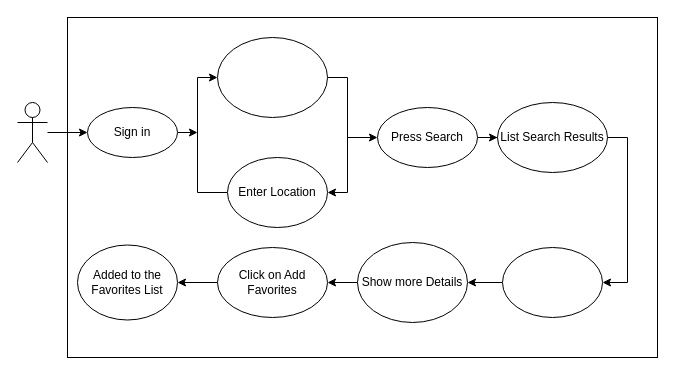
The diagram is 675 pixels wide and 375 high, and some of its shapes have lost their labels. The centre of each missing label's shape, as x and y in pixels:
Actor: point (32, 132)
Click One of the Restaurants: point (552, 282)
Enter types of Restaurant / Business Name: point (272, 77)
